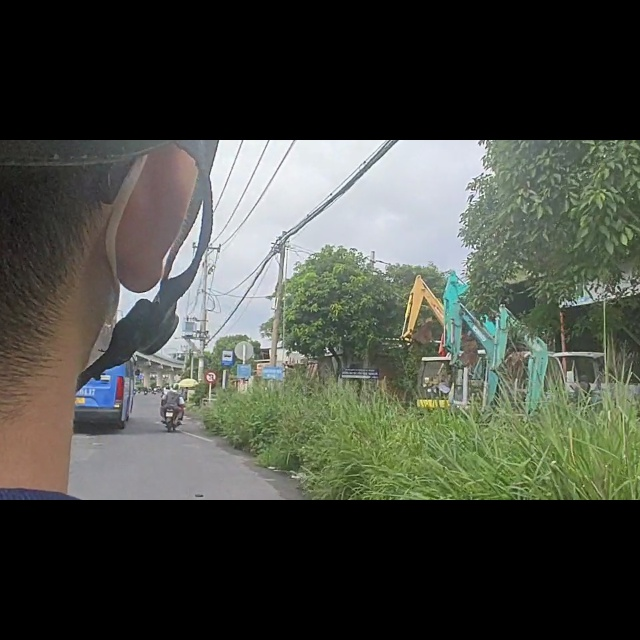bien_cam: (221, 372, 234, 403), (205, 409, 217, 433)
